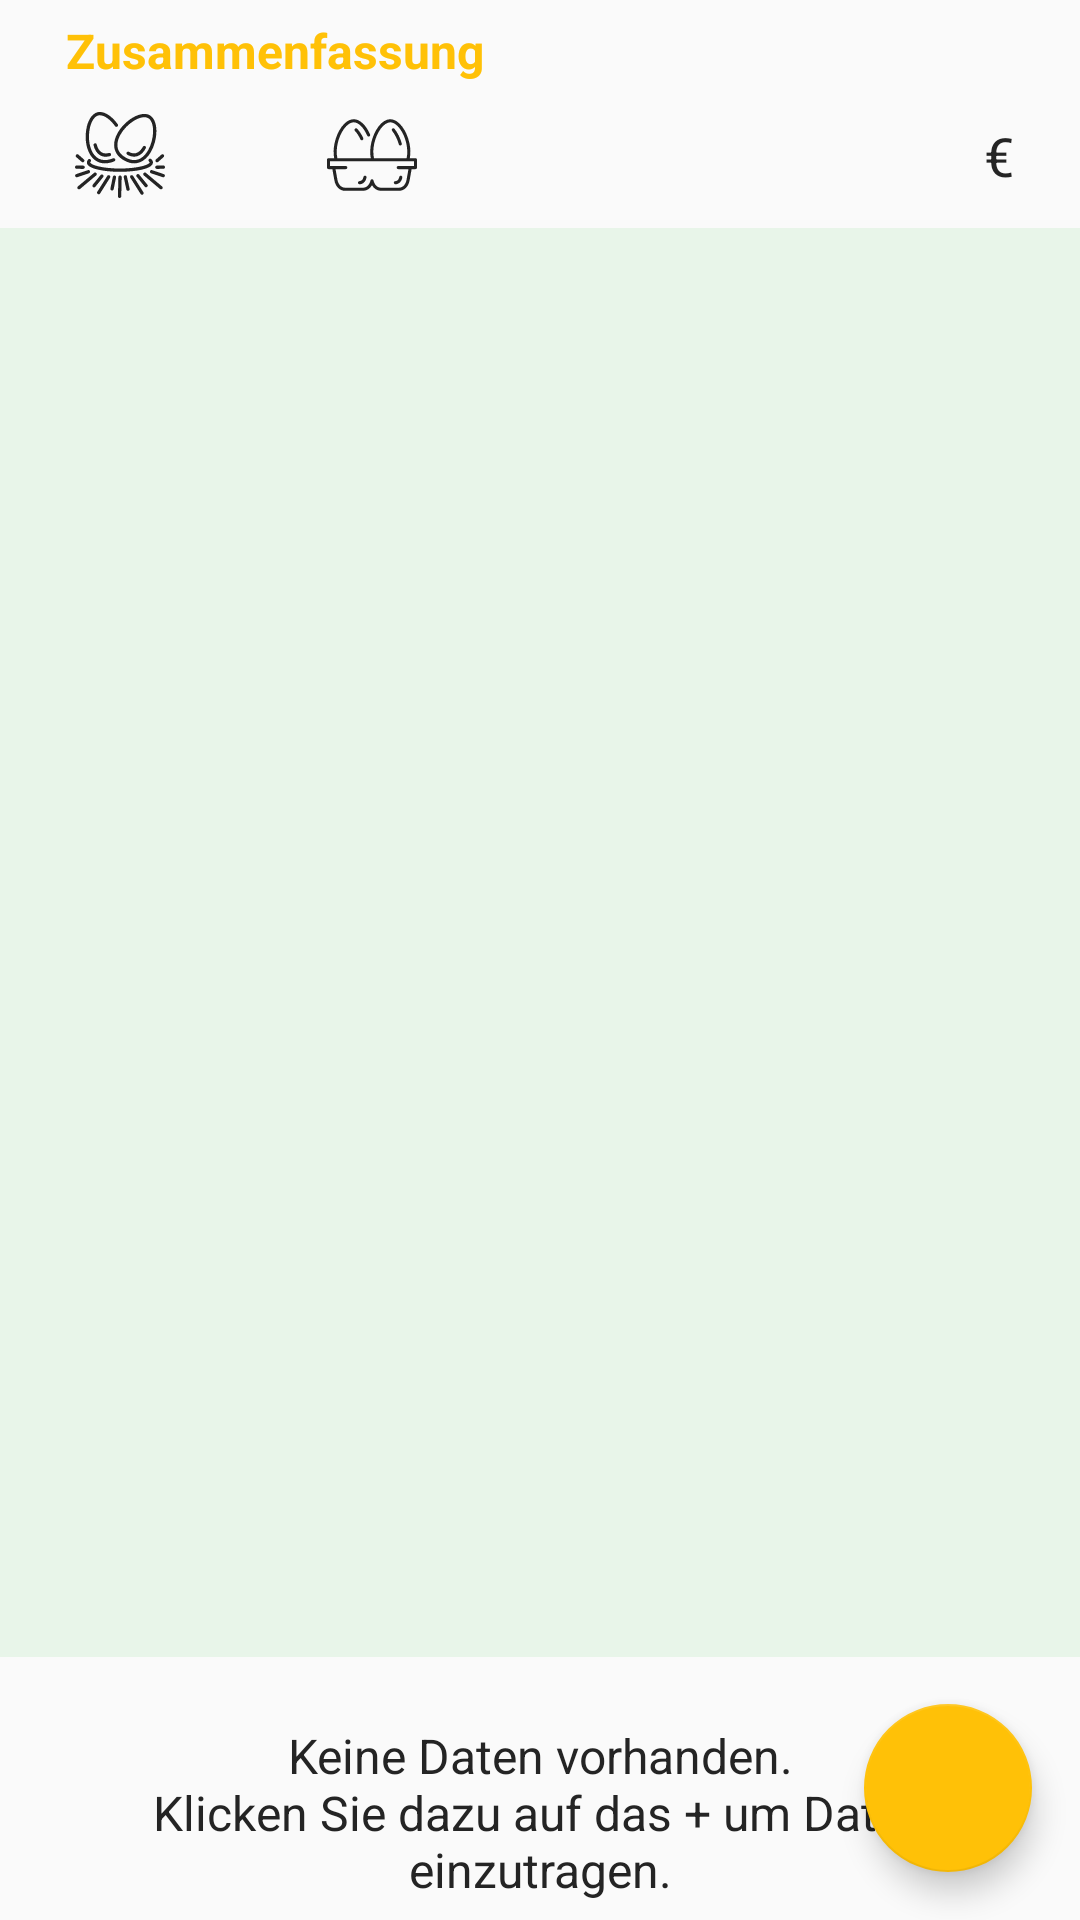

Icons on this 1080*1920 Android screen, each with the point to tap as (x=x, y=y):
Icon für die abgenommenen Eier: (x=120, y=155)
Icon für die verkauften Eier: (x=372, y=155)
